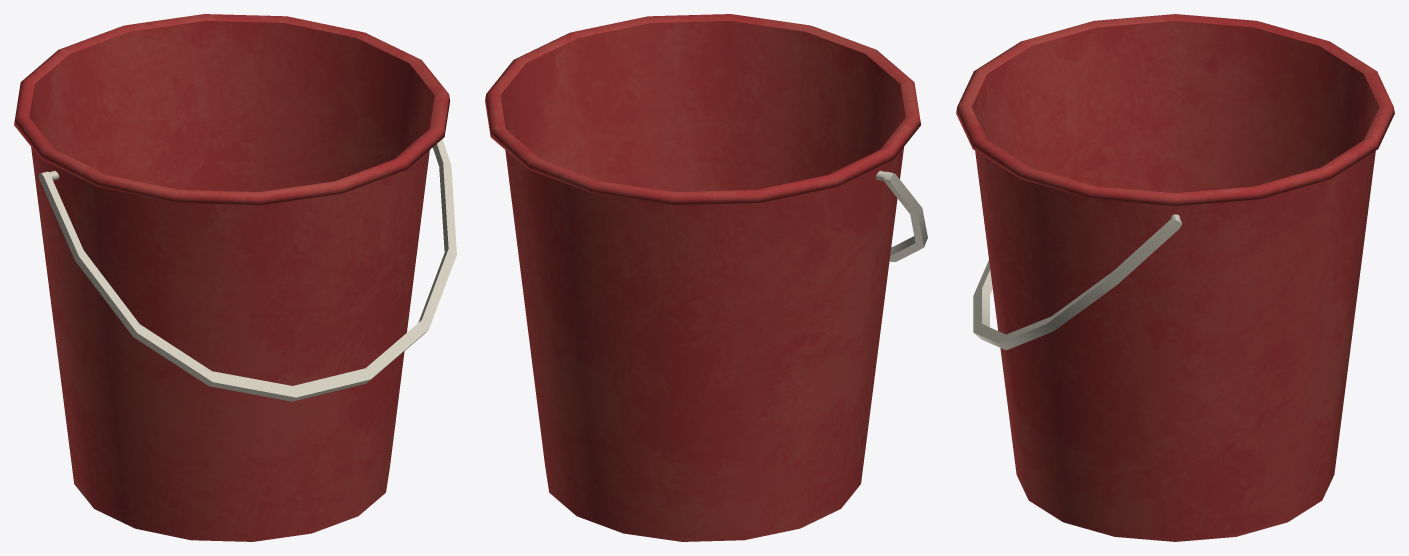
The model's file is water_bucket.FBX.
The picture shows the model from 3 angles, left to right: view 1: azimuth 30°, elevation 25°; view 2: azimuth 150°, elevation 25°; view 3: azimuth 270°, elevation 25°; orthographic projection.
Parts seen in each view (by area): view 1: water_bucket; view 2: water_bucket; view 3: water_bucket.
Boxes of the visible parts, x1,y1,x2,y2 form: water_bucket: (14, 14, 456, 541); water_bucket: (485, 14, 927, 541); water_bucket: (956, 14, 1394, 541).
Bounding box in the file's own units: 31.93 × 29.8 × 31.93.
1 material, 1 textured.
